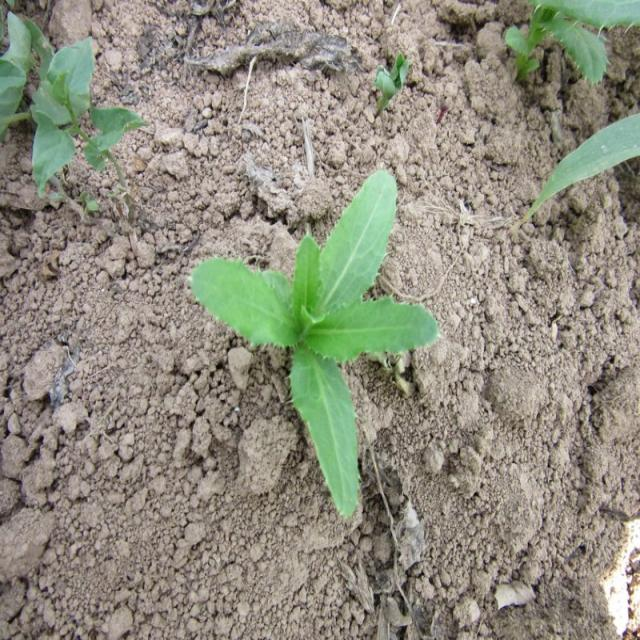cs: (184, 160, 440, 526)
